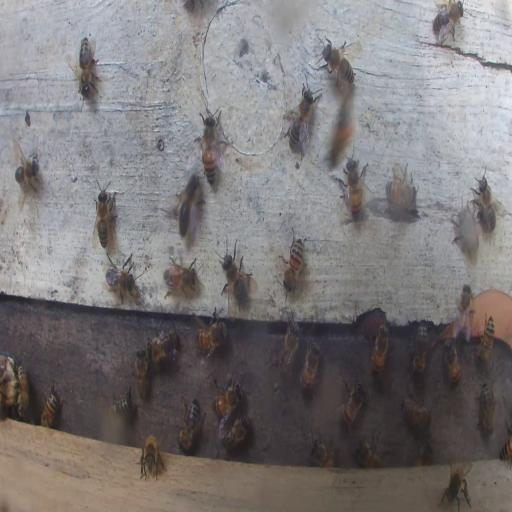nonpollenbee: (283, 74, 320, 156), (217, 241, 255, 307), (318, 36, 356, 90), (104, 251, 138, 306), (439, 460, 474, 512), (471, 167, 498, 232), (93, 181, 119, 248), (173, 177, 201, 239), (386, 166, 418, 217), (12, 144, 42, 197), (281, 232, 305, 296), (200, 109, 220, 185), (76, 34, 100, 95), (343, 154, 364, 220), (340, 379, 367, 430), (432, 1, 464, 44), (196, 311, 226, 356), (178, 396, 202, 452), (455, 209, 480, 257), (162, 262, 198, 294), (139, 435, 165, 479), (212, 382, 242, 420), (148, 327, 179, 363), (299, 340, 320, 392), (39, 381, 60, 429), (280, 322, 300, 372), (401, 396, 431, 429), (456, 284, 474, 338), (370, 323, 388, 377), (221, 413, 249, 446), (478, 382, 495, 436), (355, 437, 385, 467), (309, 434, 337, 466), (134, 346, 150, 400), (110, 383, 134, 418), (443, 340, 461, 386), (477, 316, 494, 363), (16, 362, 30, 418), (414, 322, 428, 375), (498, 421, 512, 467), (418, 439, 432, 463)
pollenbee: (327, 92, 357, 164)
